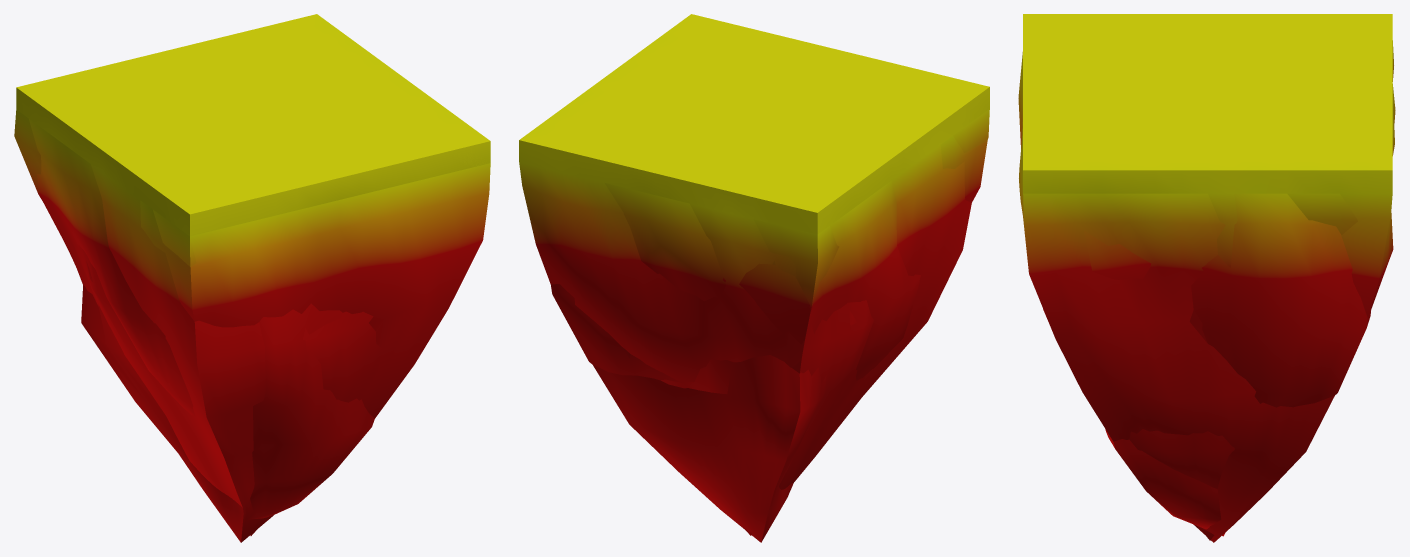
Rendered from islands.glb.
The picture shows the model from 3 angles, left to right: view 1: azimuth 30°, elevation 25°; view 2: azimuth 150°, elevation 25°; view 3: azimuth 270°, elevation 25°; orthographic projection. The views are drawn at different scales.
Parts seen in each view (by area): view 1: Island_11, Island_18, Island_25; view 2: Island_11, Island_18, Island_25; view 3: Island_11, Island_18, Island_25.
Part boxes in pixels (left/top/right/bottom): Island_11: left=16, top=14, right=490, bottom=535; Island_18: left=14, top=109, right=490, bottom=542; Island_25: left=29, top=119, right=487, bottom=520; Island_11: left=519, top=14, right=989, bottom=489; Island_18: left=593, top=136, right=987, bottom=542; Island_25: left=551, top=109, right=989, bottom=535; Island_11: left=1023, top=14, right=1395, bottom=540; Island_18: left=1018, top=40, right=1394, bottom=542; Island_25: left=1084, top=193, right=1370, bottom=536.
Size of the model in its own units: 1.02 by 1.36 by 1.02.
